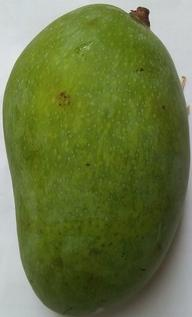Unripe: (0, 1, 192, 317)
